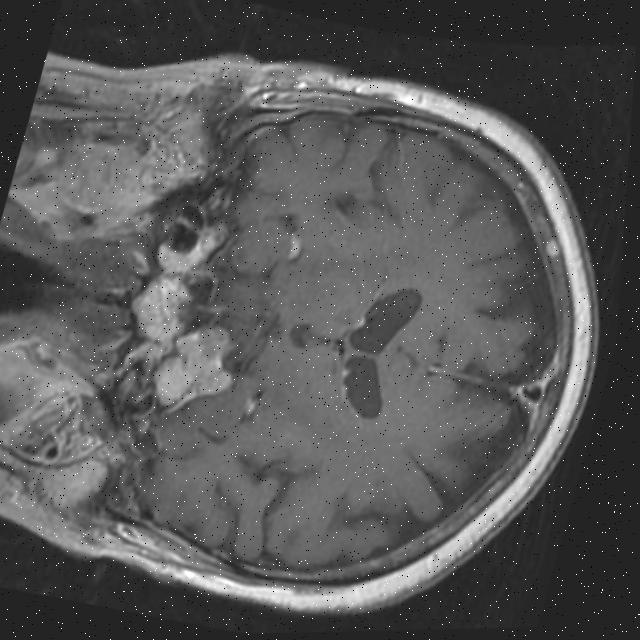Meningioma: (146, 318, 246, 423)
Pituitary: (123, 270, 193, 343)
